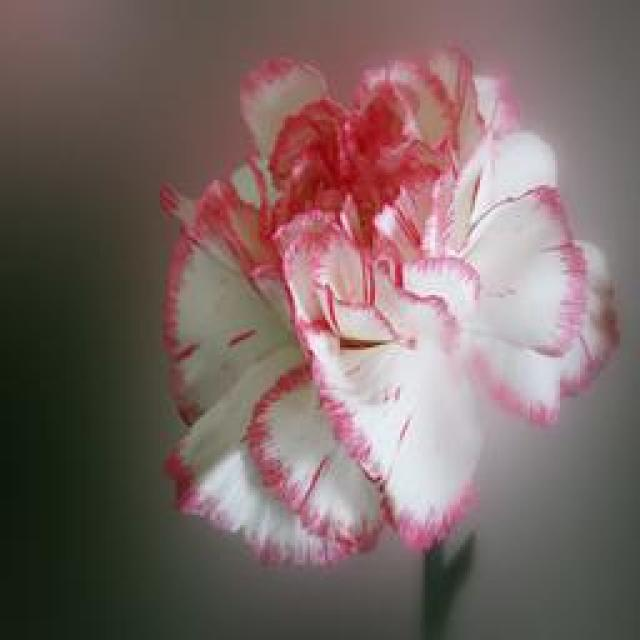carnation: (125, 38, 640, 554)
